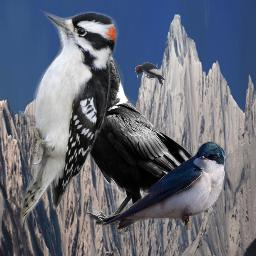Crow: (69, 47, 216, 235)
Swallow: (100, 141, 227, 230)
Woodpecker: (19, 2, 126, 232), (134, 62, 166, 86)
